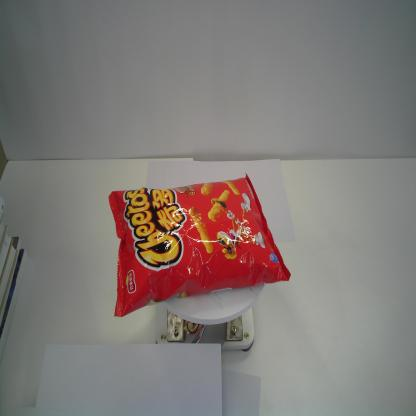Puffed Food: (107, 171, 291, 318)
